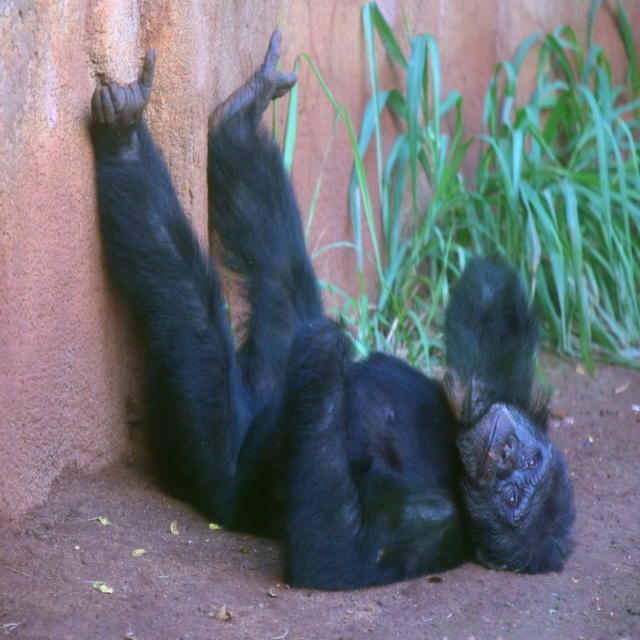Monkey: (90, 24, 578, 592)
